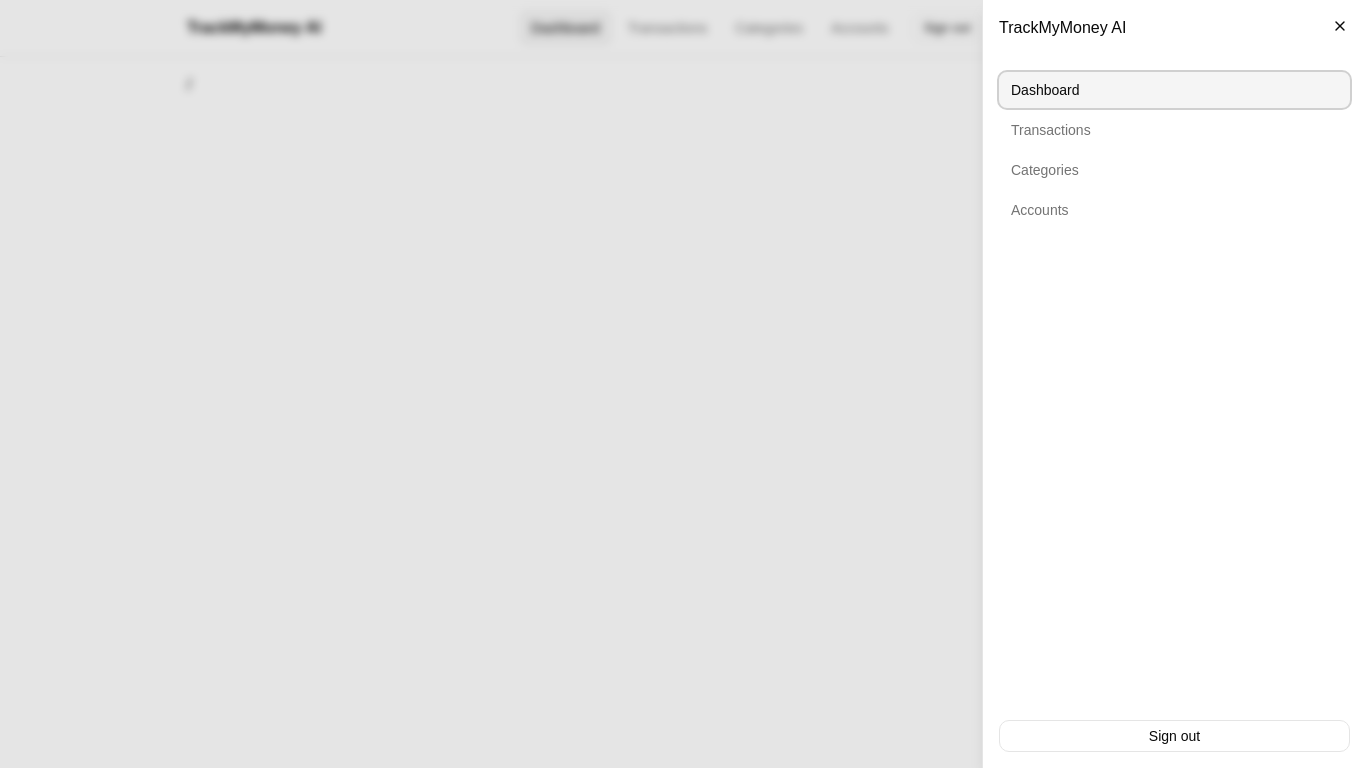
Test: RootLayout › navigates to Transactions, updates the route, and closes the dialog
The image size is (1366, 768).
Earlier steps of the test are not shown.
Click the link "Transactions" at [1051, 130], box x1=1011 y1=122 x2=1091 y2=138
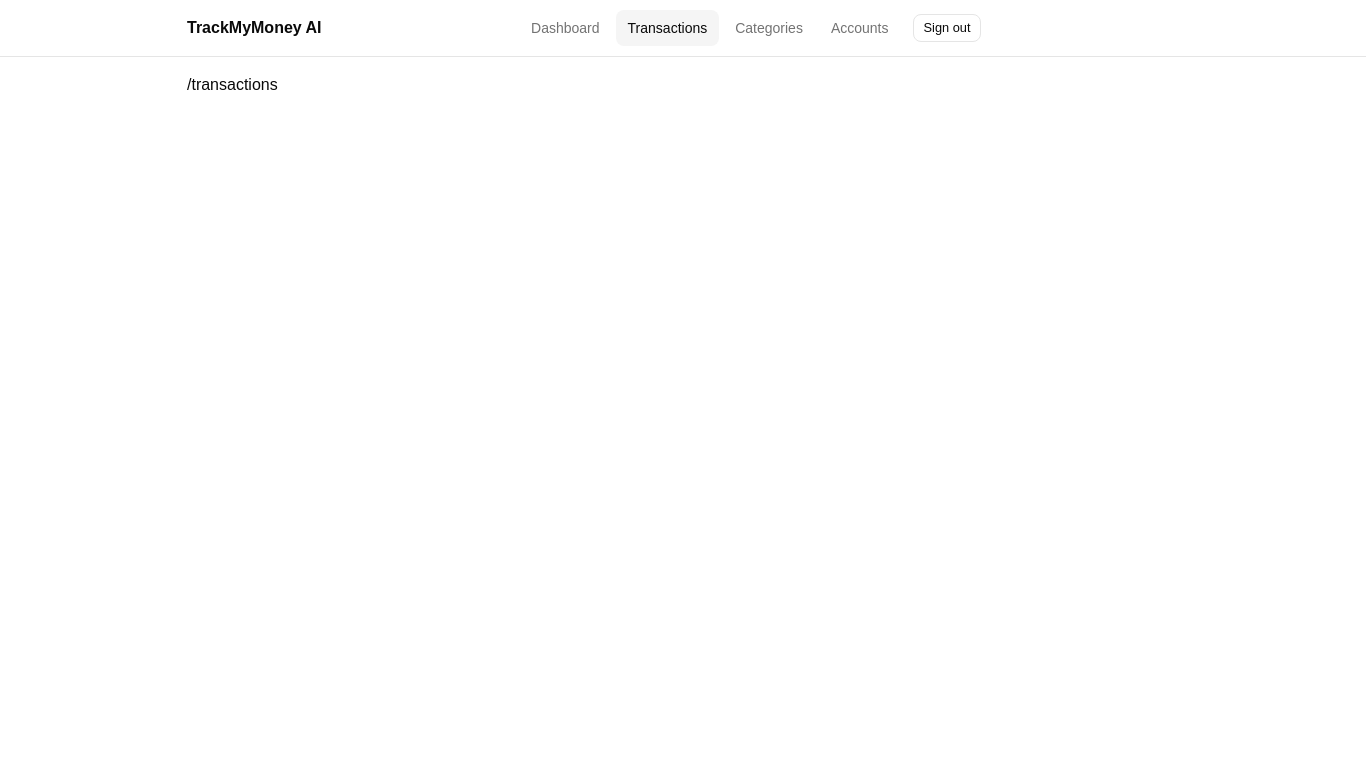
Now the text with test id "location" reads "/transactions", box x1=187 y1=76 x2=278 y2=93
Now the dialog is gone
